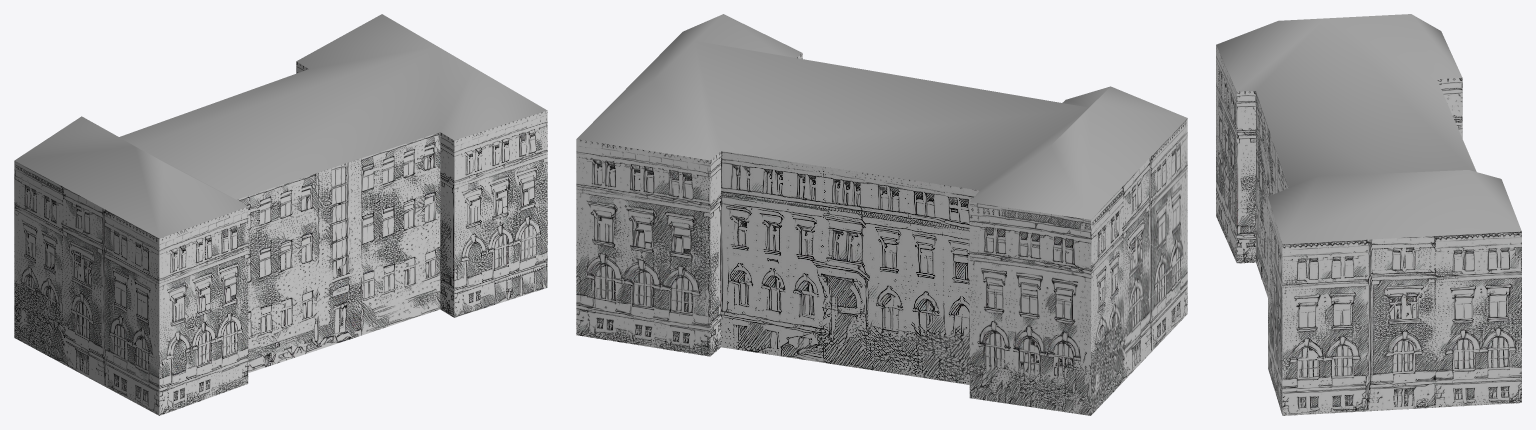
The model's file is Berndt-Bau.gltf.
3 views of the same model, side by side, from view 1: azimuth 30°, elevation 25°; view 2: azimuth 150°, elevation 25°; view 3: azimuth 270°, elevation 25° (orthographic). The views are drawn at different scales.
Parts seen in each view (by area): view 1: Dach.1; view 2: Dach.1; view 3: Dach.1.
Boxes of the visible parts, x1,y1,x2,y2 form: Dach.1: [14, 14, 547, 415]; Dach.1: [576, 14, 1187, 415]; Dach.1: [1216, 14, 1521, 415].
Bounding box in the file's own units: 47.92 × 22.36 × 29.03.
10 materials, 9 textured.
